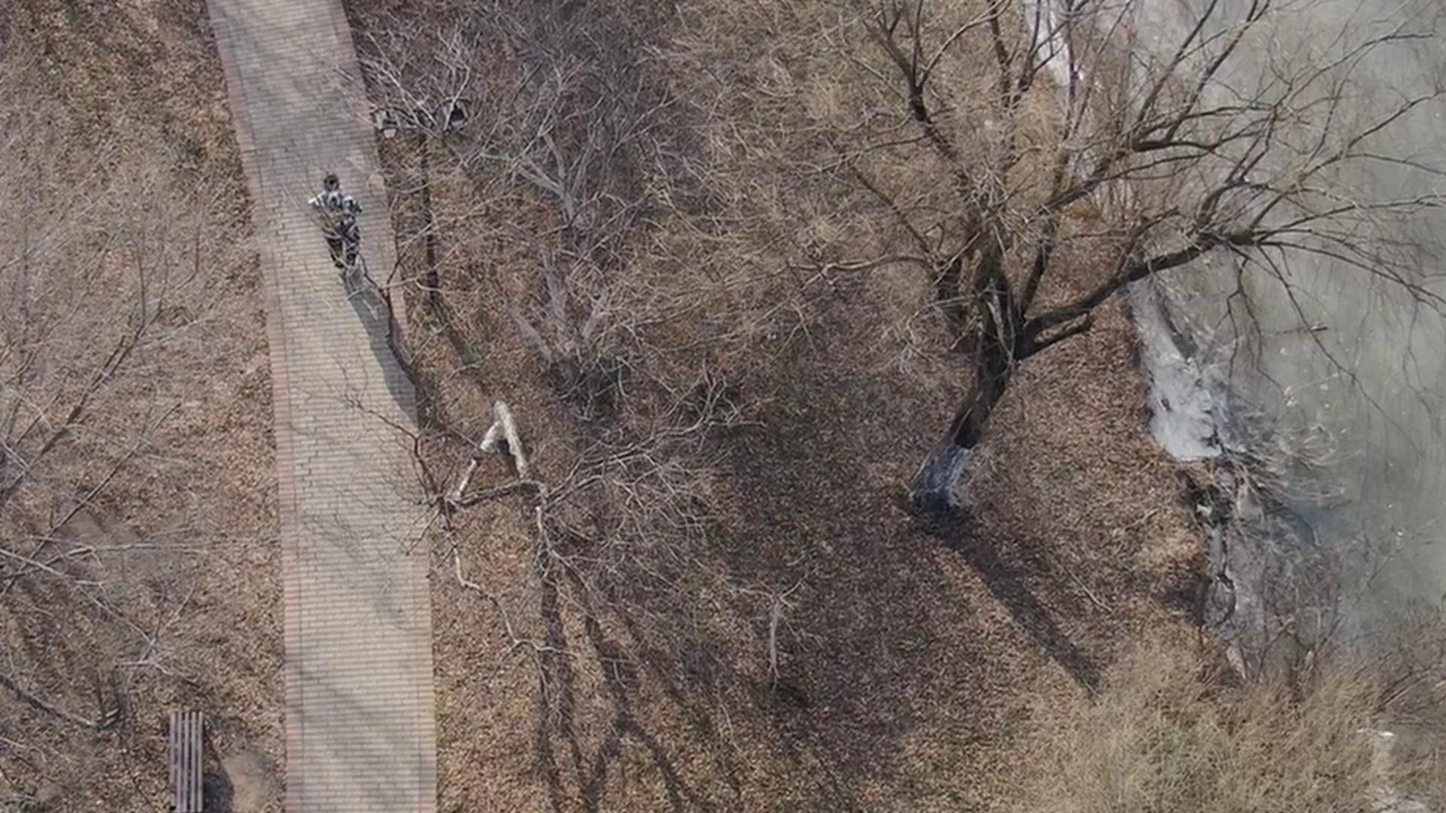human: (288, 179, 334, 282)
